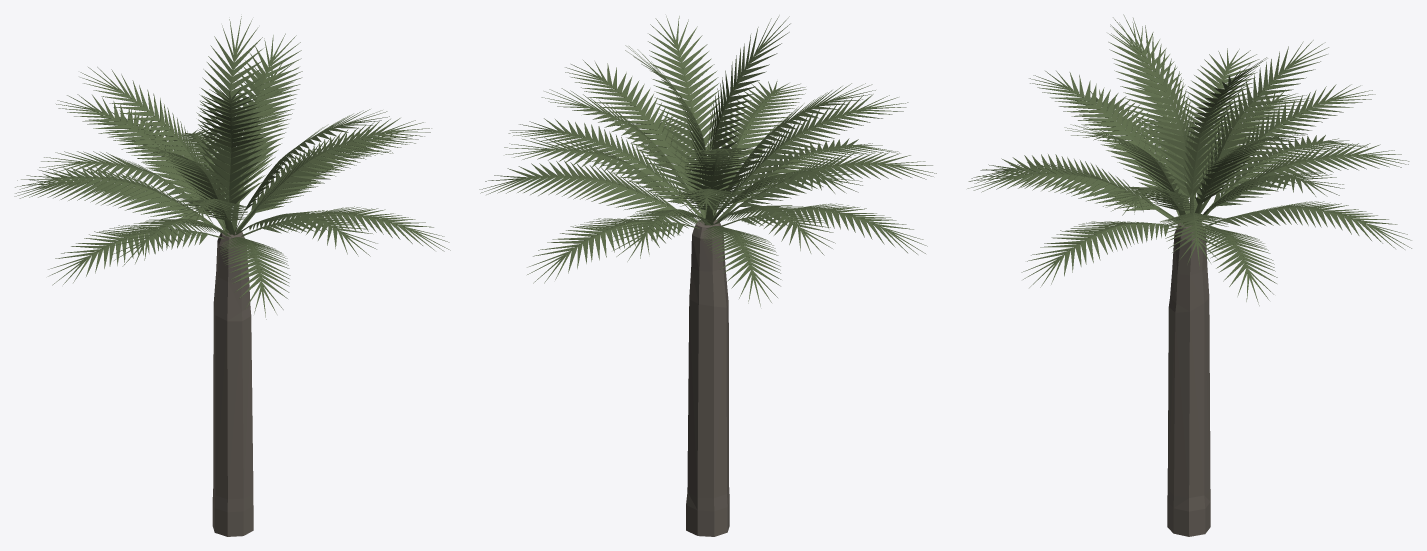
Rendered from 2 Palme.fbx.
3 renders of one model, left to right at view 1: azimuth 30°, elevation 25°; view 2: azimuth 150°, elevation 25°; view 3: azimuth 270°, elevation 25°, orthographic. The views are drawn at different scales.
Parts seen in each view (by area): view 1: Palm 2; view 2: Palm 2; view 3: Palm 2.
Part boxes in pixels (x1,y1,x2,y2): Palm 2: (14,16,450,536); Palm 2: (479,15,936,536); Palm 2: (967,14,1411,536).
Size of the model in its own units: 510 by 605 by 500.
